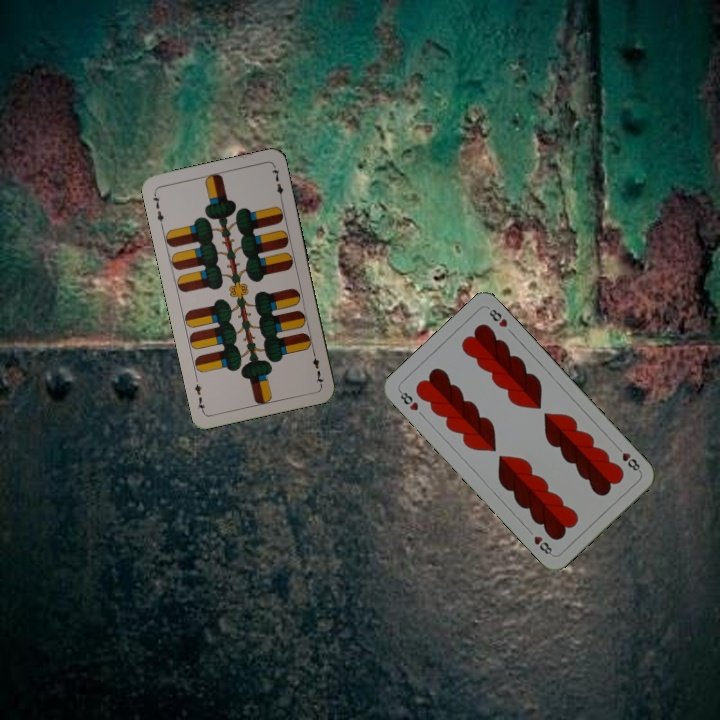E7: (308, 347, 326, 387), (149, 189, 167, 229)
H8: (612, 442, 643, 475), (395, 387, 421, 413)
